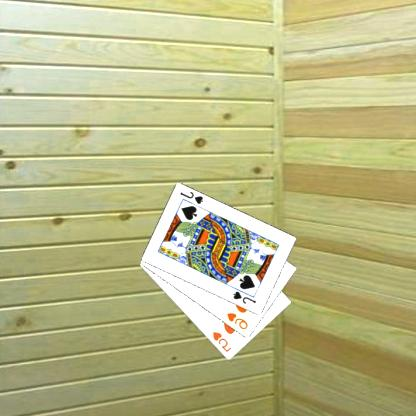5H: (212, 329, 234, 353)
9H: (226, 310, 251, 332)
JS: (232, 288, 259, 306), (180, 189, 206, 206)
